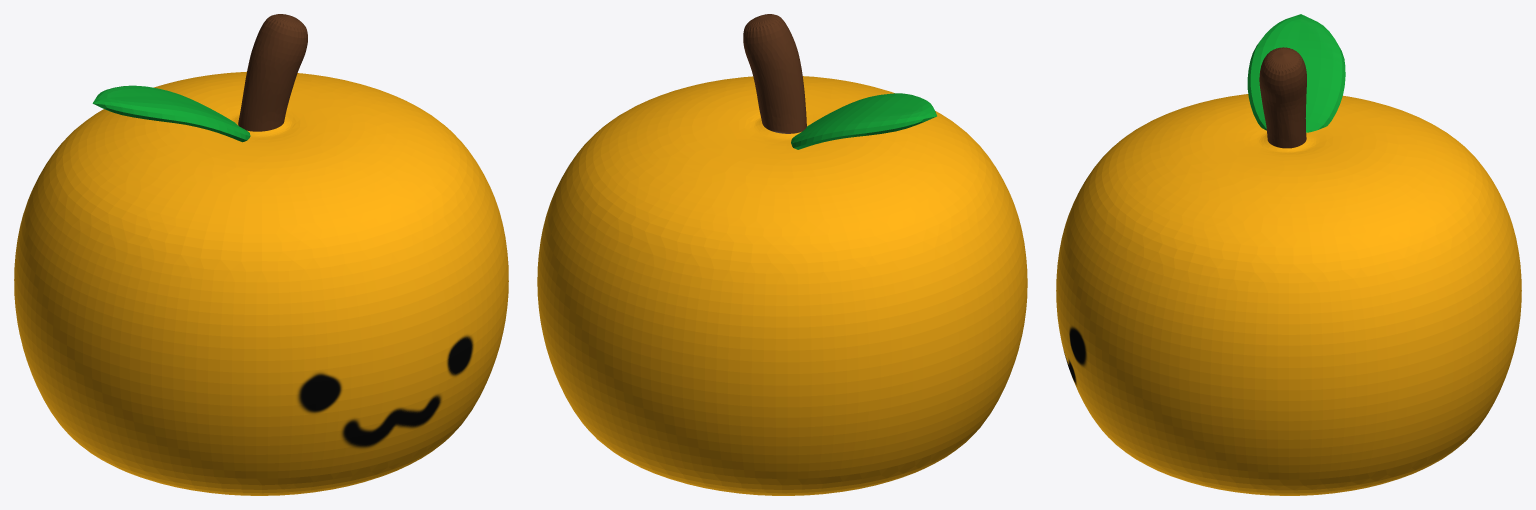
Rendered from animemikann.fbx.
3 renders of one model, left to right at view 1: azimuth 30°, elevation 25°; view 2: azimuth 150°, elevation 25°; view 3: azimuth 270°, elevation 25°, orthographic. The views are drawn at different scales.
Parts seen in each view (by area): view 1: 球, 平面; view 2: 球, 平面; view 3: 球, 平面.
Part boxes in pixels (bbox=[...]): 球: bbox=[14, 14, 508, 495]; 平面: bbox=[92, 85, 250, 142]; 球: bbox=[537, 14, 1027, 495]; 平面: bbox=[791, 93, 936, 149]; 球: bbox=[1056, 47, 1521, 495]; 平面: bbox=[1247, 14, 1345, 132].
Size of the model in its own units: 1337 by 1240 by 1321.
